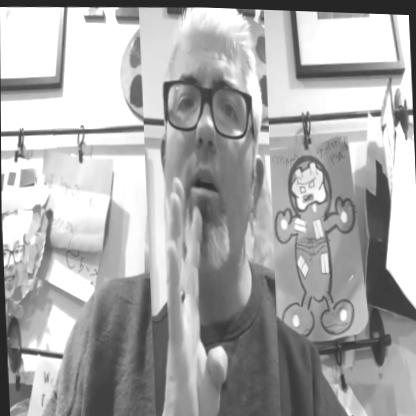Talk: (138, 4, 280, 416)
